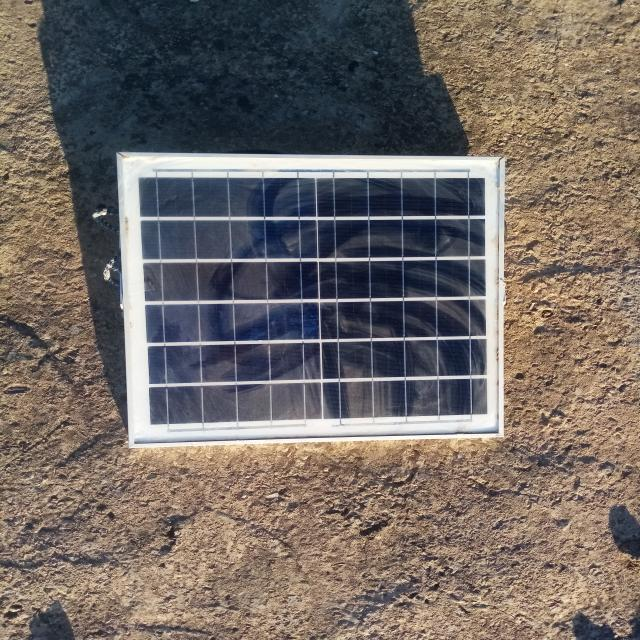faulty: (125, 158, 505, 445)
